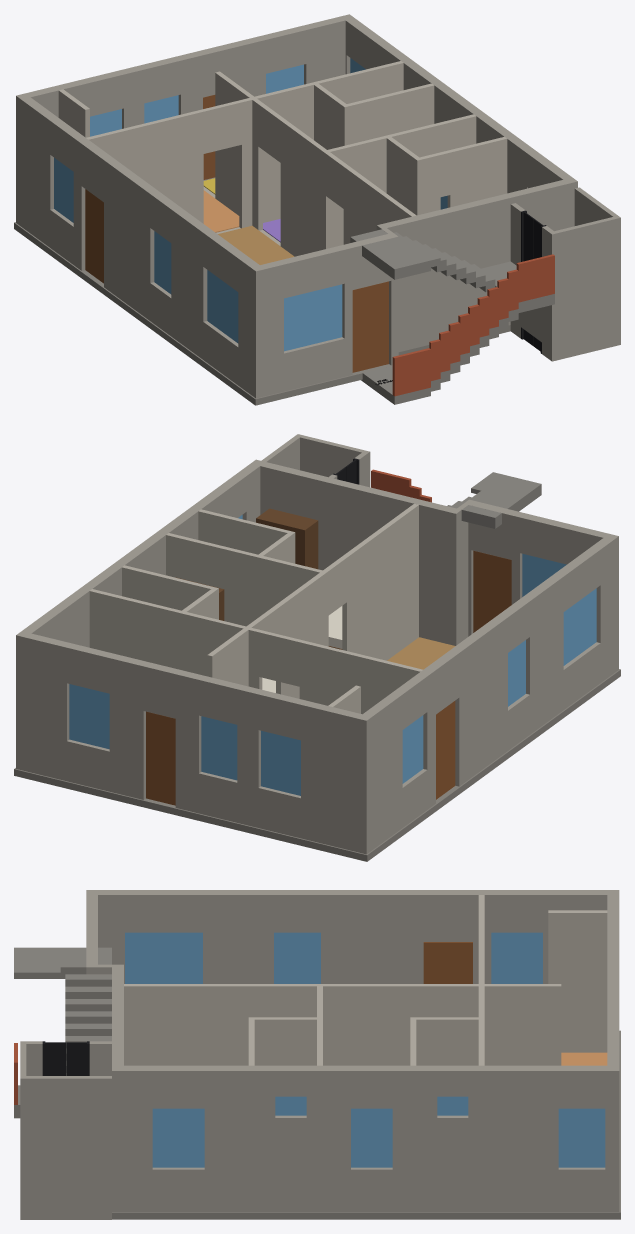
The model's file is 06_first_floor.glb.
The picture shows the model from 3 angles, top to bottom: view 1: azimuth 30°, elevation 25°; view 2: azimuth 150°, elevation 25°; view 3: azimuth 270°, elevation 25°; orthographic projection. The views are drawn at different scales.
Visible parts, largest first — view 1: FF_Wall_Exterior, FF_Wall_Interior, FF_Lift_Shaft, FF_Glass, FF_Stair_Guard, FF_Stair_Flight, FF_Door_Wood, FF_Slab_RCC, FF_Floor_Hall, FF_Lift_Doors, FF_Floor_Dining; view 2: FF_Wall_Exterior, FF_Wall_Interior, FF_Glass, FF_Door_Wood, FF_Slab_RCC, FF_Lift_Shaft, FF_Stair_Flight, FF_Furn_Wood, FF_Floor_Hall, FF_Stair_Guard, FF_Furn_Soft; view 3: FF_Wall_Exterior, FF_Wall_Interior, FF_Glass, FF_Lift_Shaft, FF_Stair_Flight, FF_Slab_RCC, FF_Door_Wood, FF_Lift_Doors, FF_Floor_Dining.
Boxes of the visible parts, x1,y1,x2,y2 form: FF_Wall_Exterior: (16, 14, 577, 398); FF_Wall_Interior: (58, 61, 507, 256); FF_Lift_Shaft: (510, 187, 620, 361); FF_Glass: (54, 58, 365, 351); FF_Stair_Guard: (392, 254, 554, 396); FF_Stair_Flight: (350, 229, 554, 404); FF_Door_Wood: (85, 95, 388, 372); FF_Slab_RCC: (14, 177, 510, 405); FF_Floor_Hall: (218, 225, 294, 264); FF_Lift_Doors: (521, 210, 546, 353); FF_Floor_Dining: (203, 190, 239, 232); FF_Wall_Exterior: (16, 459, 618, 854); FF_Wall_Interior: (89, 503, 422, 714); FF_Glass: (69, 515, 596, 795); FF_Door_Wood: (146, 550, 511, 805); FF_Slab_RCC: (14, 669, 620, 861); FF_Lift_Shaft: (261, 434, 370, 487); FF_Stair_Flight: (447, 472, 541, 528); FF_Furn_Wood: (175, 508, 342, 649); FF_Floor_Hall: (387, 637, 455, 669); FF_Stair_Guard: (371, 469, 431, 502); FF_Furn_Soft: (262, 606, 342, 692); FF_Wall_Exterior: (86, 890, 619, 1211); FF_Wall_Interior: (124, 895, 607, 1065); FF_Glass: (125, 932, 605, 1167); FF_Lift_Shaft: (20, 1041, 111, 1219); FF_Stair_Flight: (14, 947, 111, 1118); FF_Slab_RCC: (112, 1030, 620, 1219); FF_Door_Wood: (423, 942, 472, 983); FF_Lift_Doors: (42, 1041, 89, 1075); FF_Floor_Dining: (561, 1052, 607, 1065).
Size of the model in its own units: 8.31 by 3.2 by 11.69.
